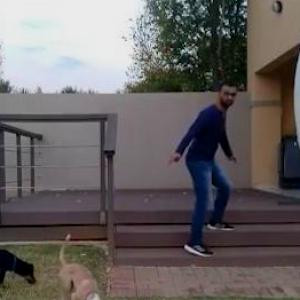land: (166, 78, 245, 254)
